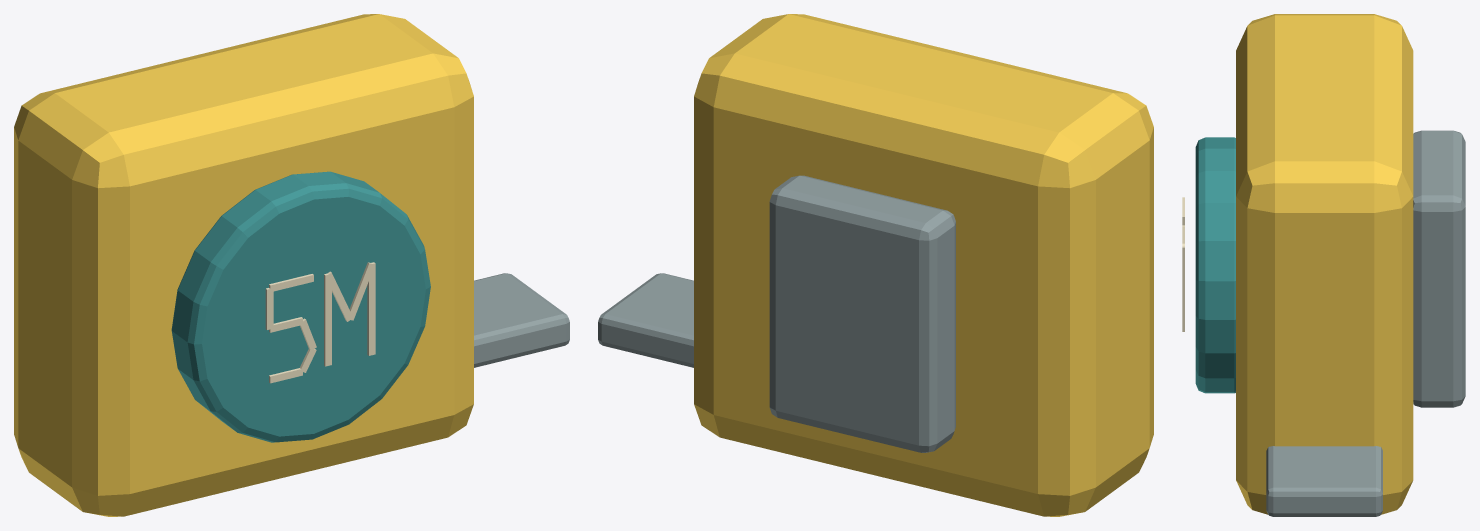
File: P095_measuring_tape.glb
The picture shows the model from 3 angles, left to right: view 1: azimuth 30°, elevation 25°; view 2: azimuth 150°, elevation 25°; view 3: azimuth 270°, elevation 25°; orthographic projection. The views are drawn at different scales.
Visible parts, largest first — view 1: P095_case_001, P095_disc_002, P095_tongue_004, P095_measure_003; view 2: P095_case_001, P095_clip_005, P095_tongue_004; view 3: P095_case_001, P095_clip_005, P095_disc_002, P095_tongue_004, P095_measure_003.
Part boxes in pixels (x1=…): P095_case_001: x1=14, y1=14, x2=473, y2=516; P095_disc_002: x1=171, y1=171, x2=430, y2=442; P095_tongue_004: x1=474, y1=273, x2=569, y2=367; P095_measure_003: x1=265, y1=262, x2=375, y2=383; P095_case_001: x1=694, y1=14, x2=1153, y2=516; P095_clip_005: x1=769, y1=175, x2=955, y2=452; P095_tongue_004: x1=598, y1=273, x2=693, y2=367; P095_case_001: x1=1236, y1=14, x2=1413, y2=514; P095_clip_005: x1=1413, y1=130, x2=1465, y2=407; P095_disc_002: x1=1195, y1=137, x2=1235, y2=393; P095_tongue_004: x1=1266, y1=446, x2=1382, y2=516; P095_measure_003: x1=1182, y1=197, x2=1184, y2=331.
Bounding box in the file's own units: 0.131 × 0.097 × 0.0704.
